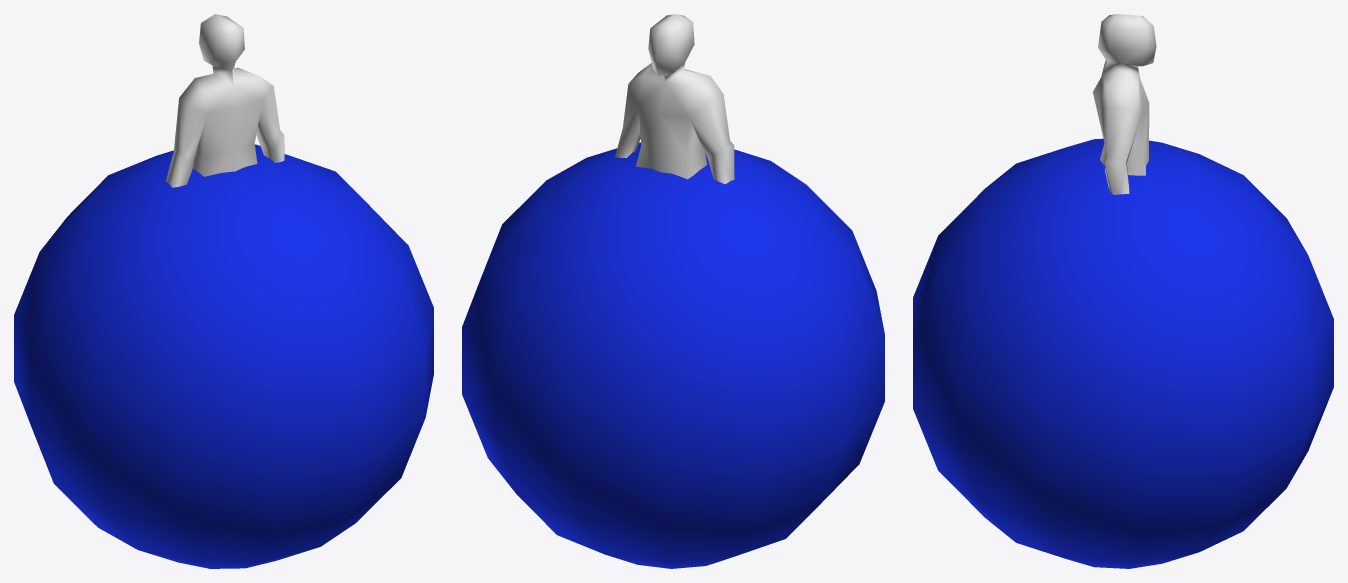
File: assets.glb
3 renders of one model, left to right at view 1: azimuth 30°, elevation 25°; view 2: azimuth 150°, elevation 25°; view 3: azimuth 270°, elevation 25°, orthographic.
Visible parts, largest first — view 1: Sphere, HumanLow; view 2: Sphere, HumanLow; view 3: Sphere, HumanLow.
Boxes of the visible parts, x1,y1,x2,y2 form: Sphere: (14, 144, 433, 568); HumanLow: (166, 14, 284, 187); Sphere: (462, 142, 884, 568); HumanLow: (615, 14, 734, 184); Sphere: (913, 138, 1333, 568); HumanLow: (1093, 14, 1156, 194).
Size of what is drawn, in the model's own units: 1.96 by 2.73 by 1.94.
